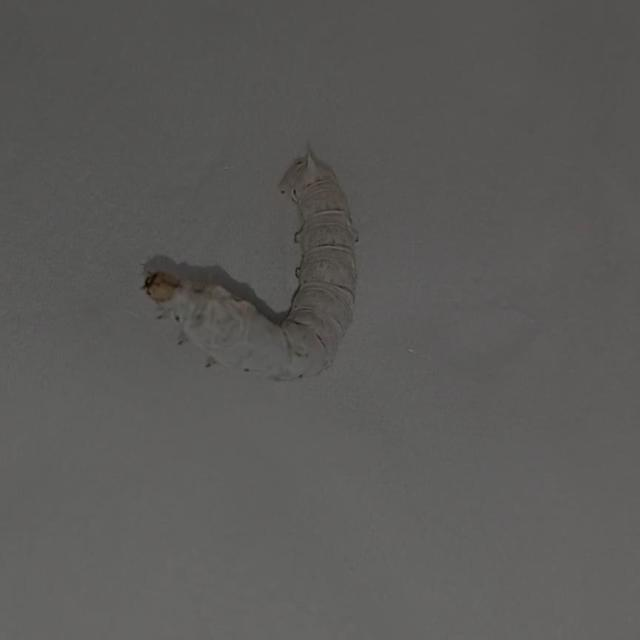Healthy: (126, 124, 379, 408)
